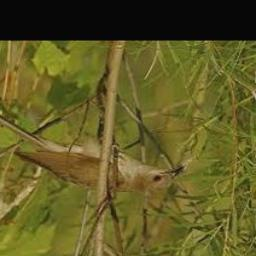Cuckoo: (0, 92, 184, 192)
